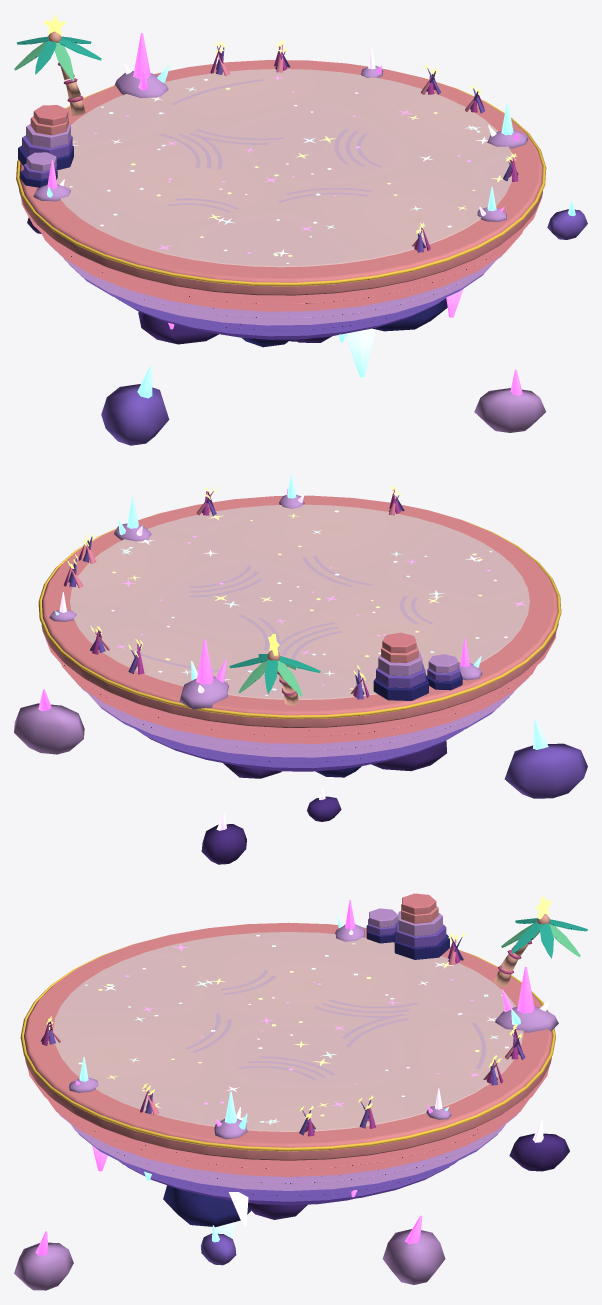
The model's file is arena_glitter.glb.
3 renders of one model, top to bottom at view 1: azimuth 30°, elevation 25°; view 2: azimuth 150°, elevation 25°; view 3: azimuth 270°, elevation 25°, orthographic. The views are drawn at different scales.
Parts seen in each view (by area): view 1: SandSheet, Body, Decor, Chunks, Ripples, Glitter, Sand; view 2: SandSheet, Body, Decor, Chunks, Ripples, Glitter; view 3: SandSheet, Body, Decor, Chunks, Ripples, Glitter, Sand.
Boxes of the visible parts, left/top/right/bottom form: SandSheet: left=56, top=69, right=512, bottom=265; Body: left=16, top=60, right=546, bottom=377; Decor: left=14, top=14, right=528, bottom=252; Chunks: left=27, top=201, right=587, bottom=445; Ripples: left=160, top=79, right=381, bottom=212; Glitter: left=69, top=75, right=508, bottom=263; Sand: left=61, top=194, right=505, bottom=267; SandSheet: left=70, top=504, right=529, bottom=698; Body: left=38, top=495, right=561, bottom=778; Decor: left=49, top=474, right=482, bottom=709; Chunks: left=14, top=689, right=587, bottom=864; Ripples: left=131, top=556, right=433, bottom=672; Glitter: left=111, top=510, right=526, bottom=695; SandSheet: left=53, top=932, right=523, bottom=1130; Body: left=20, top=922, right=555, bottom=1238; Decor: left=41, top=893, right=587, bottom=1139; Chunks: left=14, top=1119, right=569, bottom=1290; Ripples: left=185, top=970, right=485, bottom=1080; Glitter: left=78, top=935, right=508, bottom=1124; Sand: left=61, top=1058, right=513, bottom=1131.
Size of the model in its own units: 8.38 by 4.57 by 8.22.
